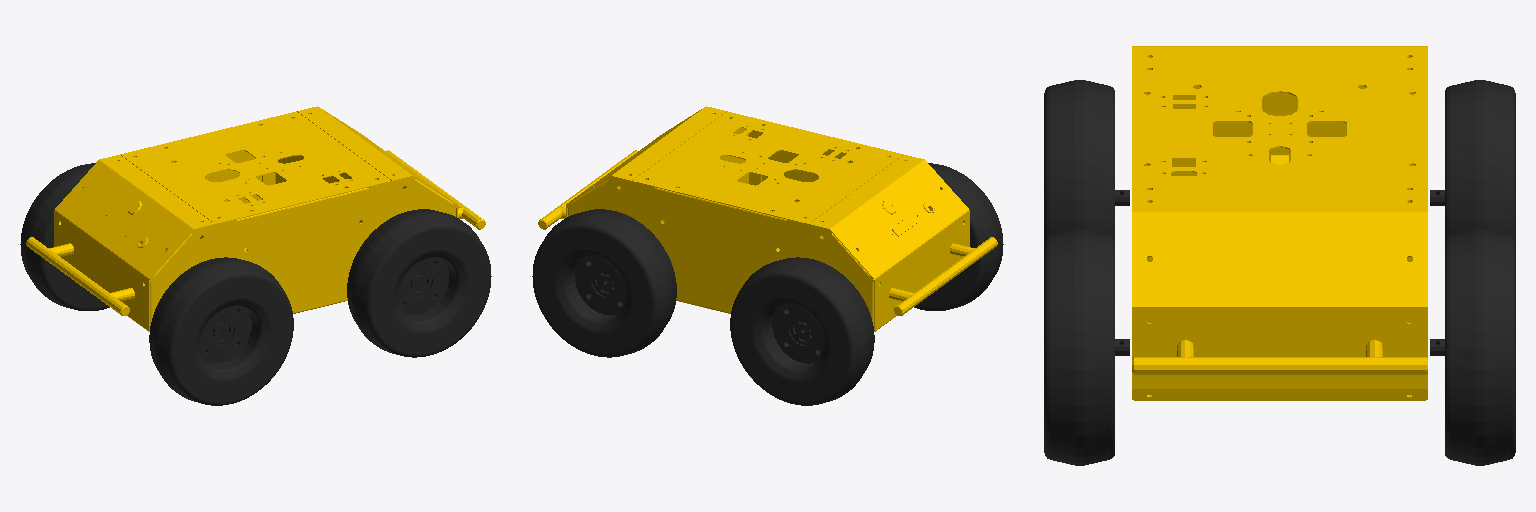
robot.urdf — lingao_description:
<?xml version="1.0" encoding="utf-8"?>
<!-- This URDF was automatically created by SolidWorks to URDF Exporter! Originally created by [author] ([email redacted]) 
     Commit Version: 1.5.1-0-g916b5db  Build Version: 1.5.7152.31018
     For more information, please see http://wiki.ros.org/sw_urdf_exporter -->
<robot
  name="lingao_description">
  <link
    name="base_link">
    <inertial>
      <origin
        xyz="-0.0054933 -4.1587E-05 0.062041"
        rpy="0 0 0" />
      <mass
        value="0.43668" />
      <inertia
        ixx="0.0029446"
        ixy="-1.0694E-05"
        ixz="8.6442E-05"
        iyy="0.0086395"
        iyz="-7.9718E-07"
        izz="0.0097467" />
    </inertial>
    <visual>
      <origin
        xyz="0 0 0"
        rpy="0 0 0" />
      <geometry>
        <mesh
          filename="package://lingao_description/meshes/LA_4WD_LingFeng/LingFeng_base.STL" />
      </geometry>
      <material
        name="">
        <color
          rgba="1 0.812 0 1" />
      </material>
    </visual>
    <collision>
      <origin
        xyz="0 0 0"
        rpy="0 0 0" />
      <geometry>
        <mesh
          filename="package://lingao_description/meshes/LA_4WD_LingFeng/LingFeng_base.STL" />
      </geometry>
    </collision>
  </link>
  <link
    name="wheel_la_link">
    <inertial>
      <origin
        xyz="-7.128E-08 -0.024133 -1.2354E-07"
        rpy="0 0 0" />
      <mass
        value="0.72164" />
      <inertia
        ixx="0.0014337"
        ixy="-1.4592E-09"
        ixz="1.906E-10"
        iyy="0.0026176"
        iyz="-2.5284E-09"
        izz="0.0014337" />
    </inertial>
    <visual>
      <origin
        xyz="0 0 0"
        rpy="0 0 0" />
      <geometry>
        <mesh
          filename="package://lingao_description/meshes/LA_4WD_LingFeng/wheel_left.STL" />
      </geometry>
      <material
        name="">
        <color
          rgba="0.2 0.2 0.2 1" />
      </material>
    </visual>
    <collision>
      <origin
        xyz="0 0 0"
        rpy="0 0 0" />
      <geometry>
        <mesh
          filename="package://lingao_description/meshes/LA_4WD_LingFeng/wheel_left.STL" />
      </geometry>
    </collision>
  </link>
  <joint
    name="wheel_la_joint"
    type="continuous">
    <origin
      xyz="0.12 0.1595 0.02"
      rpy="0 0 0" />
    <parent
      link="base_link" />
    <child
      link="wheel_la_link" />
    <axis
      xyz="0 1 0" />
  </joint>
  <link
    name="wheel_lb_link">
    <inertial>
      <origin
        xyz="-7.128E-08 -0.024133 -1.2354E-07"
        rpy="0 0 0" />
      <mass
        value="0.72164" />
      <inertia
        ixx="0.0014337"
        ixy="-1.4592E-09"
        ixz="1.906E-10"
        iyy="0.0026176"
        iyz="-2.5284E-09"
        izz="0.0014337" />
    </inertial>
    <visual>
      <origin
        xyz="0 0 0"
        rpy="0 0 0" />
      <geometry>
        <mesh
          filename="package://lingao_description/meshes/LA_4WD_LingFeng/wheel_left.STL" />
      </geometry>
      <material
        name="">
        <color
          rgba="0.2 0.2 0.2 1" />
      </material>
    </visual>
    <collision>
      <origin
        xyz="0 0 0"
        rpy="0 0 0" />
      <geometry>
        <mesh
          filename="package://lingao_description/meshes/LA_4WD_LingFeng/wheel_left.STL" />
      </geometry>
    </collision>
  </link>
  <joint
    name="wheel_lb_joint"
    type="continuous">
    <origin
      xyz="-0.12 0.1595 0.02"
      rpy="0 0 0" />
    <parent
      link="base_link" />
    <child
      link="wheel_lb_link" />
    <axis
      xyz="0 1 0" />
  </joint>
  <link
    name="wheel_ra_link">
    <inertial>
      <origin
        xyz="-7.1345E-08 0.024133 -1.235E-07"
        rpy="0 0 0" />
      <mass
        value="0.72164" />
      <inertia
        ixx="0.0014337"
        ixy="1.4601E-09"
        ixz="1.9073E-10"
        iyy="0.0026176"
        iyz="2.5279E-09"
        izz="0.0014337" />
    </inertial>
    <visual>
      <origin
        xyz="0 0 0"
        rpy="0 0 0" />
      <geometry>
        <mesh
          filename="package://lingao_description/meshes/LA_4WD_LingFeng/wheel_right.STL" />
      </geometry>
      <material
        name="">
        <color
          rgba="0.2 0.2 0.2 1" />
      </material>
    </visual>
    <collision>
      <origin
        xyz="0 0 0"
        rpy="0 0 0" />
      <geometry>
        <mesh
          filename="package://lingao_description/meshes/LA_4WD_LingFeng/wheel_right.STL" />
      </geometry>
    </collision>
  </link>
  <joint
    name="wheel_ra_joint"
    type="continuous">
    <origin
      xyz="0.12 -0.1595 0.02"
      rpy="0 0 0" />
    <parent
      link="base_link" />
    <child
      link="wheel_ra_link" />
    <axis
      xyz="0 1 0" />
  </joint>
  <link
    name="wheel_rb_link">
    <inertial>
      <origin
        xyz="0 0 0"
        rpy="0 0 0" />
      <mass
        value="0" />
      <inertia
        ixx="0"
        ixy="0"
        ixz="0"
        iyy="0"
        iyz="0"
        izz="0" />
    </inertial>
    <visual>
      <origin
        xyz="0 0 0"
        rpy="0 0 0" />
      <geometry>
        <mesh
          filename="package://lingao_description/meshes/LA_4WD_LingFeng/wheel_right.STL" />
      </geometry>
      <material
        name="">
        <color
          rgba="0.2 0.2 0.2 1" />
      </material>
    </visual>
    <collision>
      <origin
        xyz="0 0 0"
        rpy="0 0 0" />
      <geometry>
        <mesh
          filename="package://lingao_description/meshes/LA_4WD_LingFeng/wheel_right.STL" />
      </geometry>
    </collision>
  </link>
  <joint
    name="wheel_rb_joint"
    type="continuous">
    <origin
      xyz="-0.12 -0.1595 0.02"
      rpy="0 0 0" />
    <parent
      link="base_link" />
    <child
      link="wheel_rb_link" />
    <axis
      xyz="0 1 0" />
  </joint>
</robot>

--- Facts derived from the render (not from the file) ---
Views: 3 orthographic renders of the robot side by side, from view 1: azimuth 30°, elevation 25°; view 2: azimuth 150°, elevation 25°; view 3: azimuth 270°, elevation 25°.
Robot: lingao_description — 5 links, 4 joints (4 continuous); root link base_link; default pose: every joint at zero.
Visible links, largest first — view 1: base_link, wheel_rb_link, wheel_ra_link, wheel_lb_link; view 2: base_link, wheel_lb_link, wheel_la_link, wheel_rb_link; view 3: base_link, wheel_ra_link, wheel_la_link, wheel_lb_link, wheel_rb_link.
Boxes of the visible links, x1=… form: base_link: x1=26, y1=106, x2=485, y2=331; wheel_rb_link: x1=149, y1=257, x2=293, y2=405; wheel_ra_link: x1=347, y1=209, x2=491, y2=357; wheel_lb_link: x1=20, y1=163, x2=109, y2=310; base_link: x1=538, y1=106, x2=997, y2=331; wheel_lb_link: x1=730, y1=257, x2=874, y2=405; wheel_la_link: x1=532, y1=209, x2=676, y2=357; wheel_rb_link: x1=914, y1=163, x2=1003, y2=310; base_link: x1=1132, y1=46, x2=1427, y2=400; wheel_ra_link: x1=1044, y1=230, x2=1129, y2=465; wheel_la_link: x1=1430, y1=230, x2=1515, y2=465; wheel_lb_link: x1=1430, y1=80, x2=1515, y2=242; wheel_rb_link: x1=1044, y1=80, x2=1129, y2=242.
Bounding box of the posed robot: 0.444 × 0.319 × 0.1875 m (x, y, z).
5 mesh visuals loaded from 3 distinct referenced files (3 binary STL).
